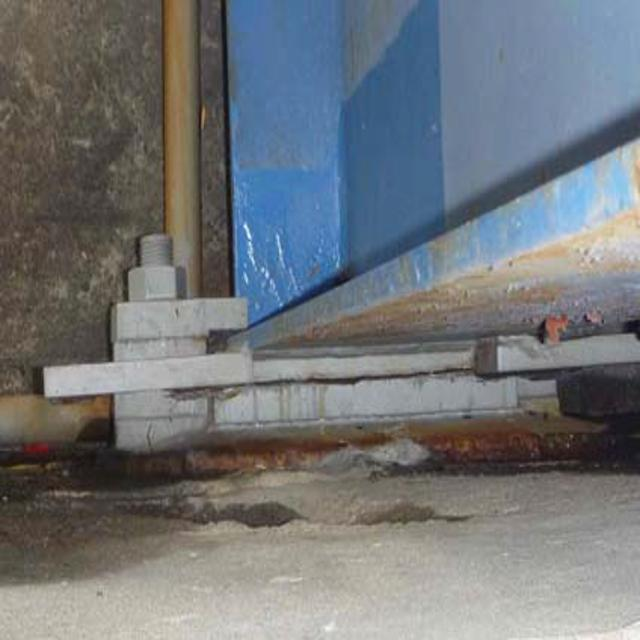corrosion: (143, 419, 607, 477), (154, 5, 213, 258)
